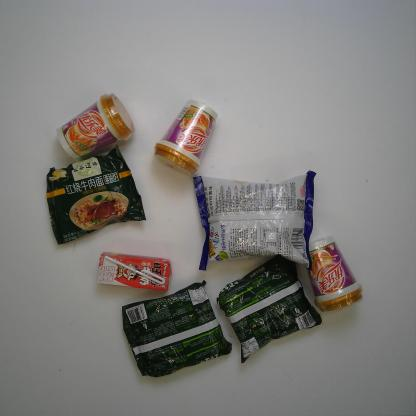Instant Drink: (55, 90, 137, 160), (150, 98, 219, 177), (303, 236, 366, 314)
Instant Noodles: (214, 253, 322, 366), (120, 279, 233, 379), (44, 143, 148, 248)
Milk: (94, 250, 174, 293)
Puffed Food: (191, 166, 318, 272)
